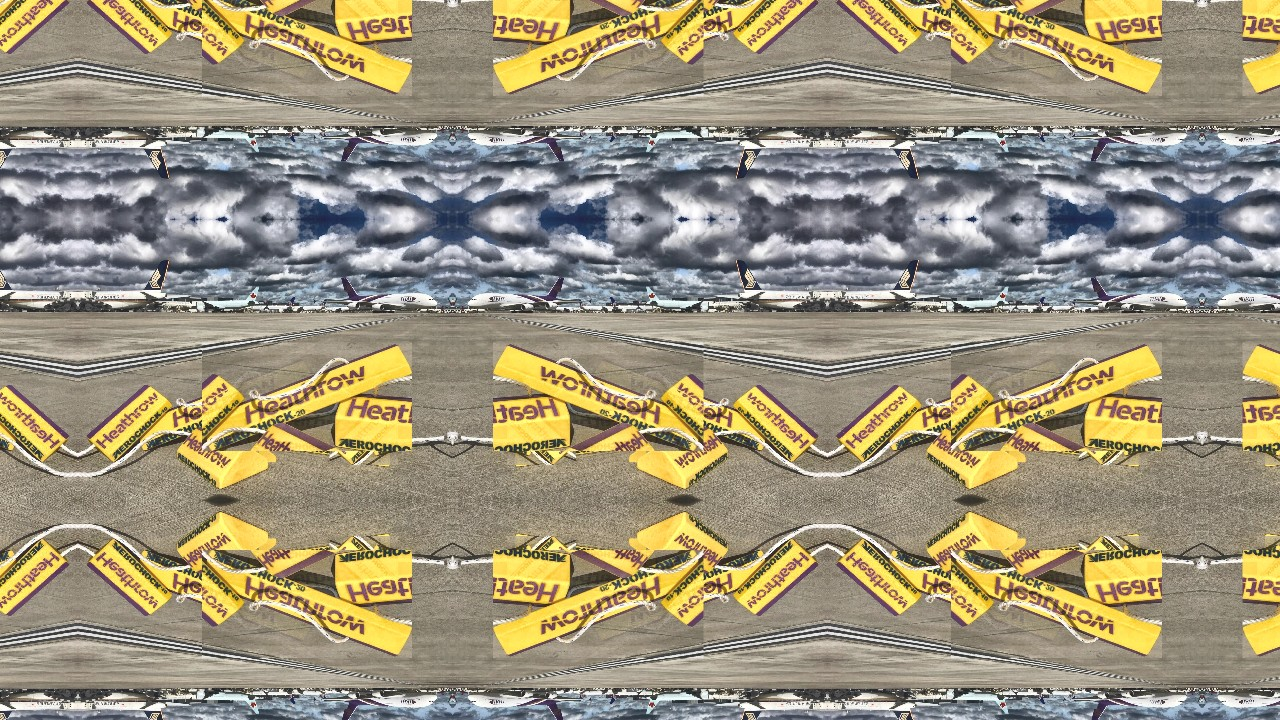chock: (201, 343, 412, 451), (493, 343, 704, 451), (201, 550, 412, 658), (493, 550, 704, 658), (952, 343, 1162, 451), (952, 550, 1162, 658), (201, 0, 412, 96), (493, 0, 704, 96), (952, 0, 1162, 96), (136, 358, 315, 451), (590, 358, 769, 451), (886, 358, 1065, 451), (136, 550, 315, 643), (590, 550, 769, 643), (886, 550, 1065, 643), (136, 0, 315, 81), (590, 0, 769, 81), (886, 0, 1065, 81), (248, 397, 392, 467), (513, 397, 657, 467), (998, 397, 1142, 467), (248, 534, 392, 604), (513, 534, 657, 604), (998, 534, 1142, 604), (259, 403, 381, 462), (525, 403, 646, 462), (1009, 403, 1130, 462), (259, 539, 381, 597), (84, 382, 172, 462), (733, 382, 821, 462), (834, 382, 922, 462), (84, 539, 172, 619), (733, 539, 821, 619), (834, 539, 922, 619), (525, 539, 646, 597), (1009, 539, 1130, 597), (176, 426, 269, 490), (636, 426, 729, 490), (926, 426, 1019, 490), (176, 511, 269, 575), (636, 511, 729, 575), (926, 511, 1019, 575), (248, 0, 392, 41), (513, 0, 657, 41), (998, 0, 1142, 41), (0, 382, 71, 462), (0, 539, 71, 619), (84, 0, 172, 56), (733, 0, 821, 56), (834, 0, 922, 56), (329, 402, 398, 465), (507, 402, 576, 465), (1079, 402, 1148, 465), (329, 536, 398, 599), (507, 536, 576, 599), (1079, 536, 1148, 599), (259, 0, 381, 35), (525, 0, 646, 35), (1009, 0, 1130, 35), (1243, 343, 1280, 451), (1243, 550, 1280, 658), (0, 0, 71, 56), (1243, 0, 1280, 96), (329, 0, 398, 36), (507, 0, 576, 36), (1079, 0, 1148, 36), (0, 358, 19, 451), (0, 550, 19, 643), (0, 0, 19, 81), (1257, 402, 1280, 465), (1257, 536, 1280, 599), (176, 0, 269, 13), (636, 0, 729, 13), (926, 0, 1019, 13), (1263, 397, 1280, 467), (1263, 534, 1280, 604), (1257, 0, 1280, 36), (1263, 0, 1280, 41)
